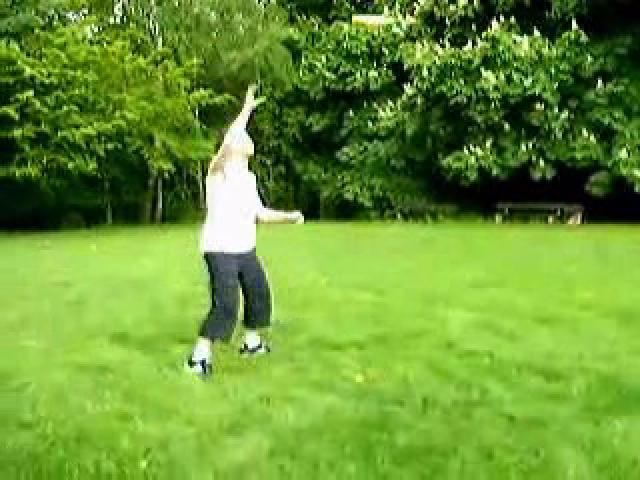T: (179, 79, 297, 377)
